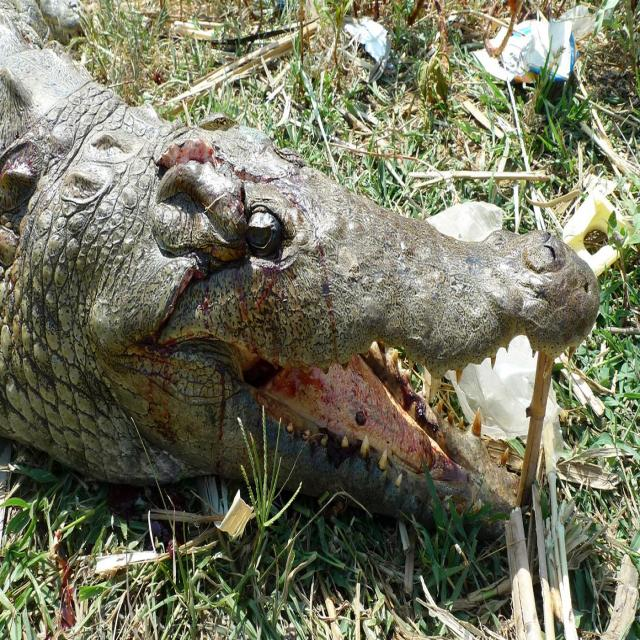crocodile: (0, 2, 603, 522)
